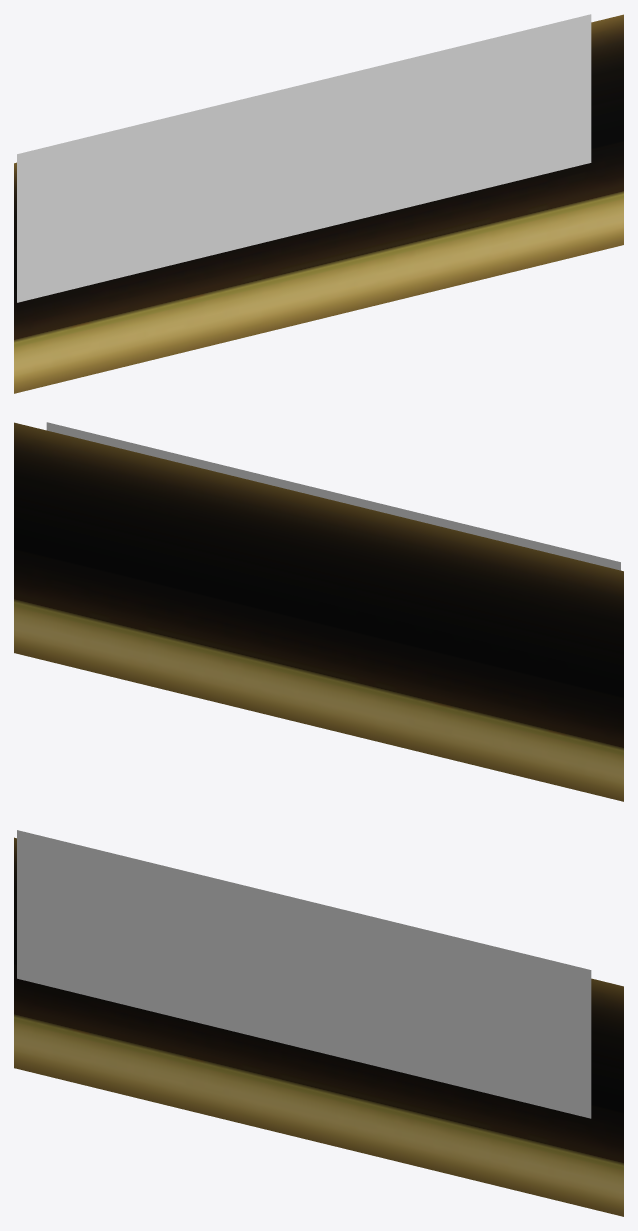
The model's file is pref_fxui_generalhotshop_banner_02.fbx.
3 views of the same model, one above another, from view 1: azimuth 30°, elevation 25°; view 2: azimuth 150°, elevation 25°; view 3: azimuth 330°, elevation 25° (orthographic).
Parts seen in each view (by area): view 1: mask02 (1), mask02; view 2: mask02, mask02 (1); view 3: mask02 (1), mask02.
Boxes of the visible parts, x1,y1,x2,y2 form: mask02 (1): (17,14,591,302); mask02: (14,14,623,393); mask02: (14,422,623,801); mask02 (1): (46,422,620,570); mask02 (1): (17,830,591,1118); mask02: (14,837,623,1216).
Bounding box in the file's own units: 914 × 342 × 0.02.
2 materials, 1 textured.
